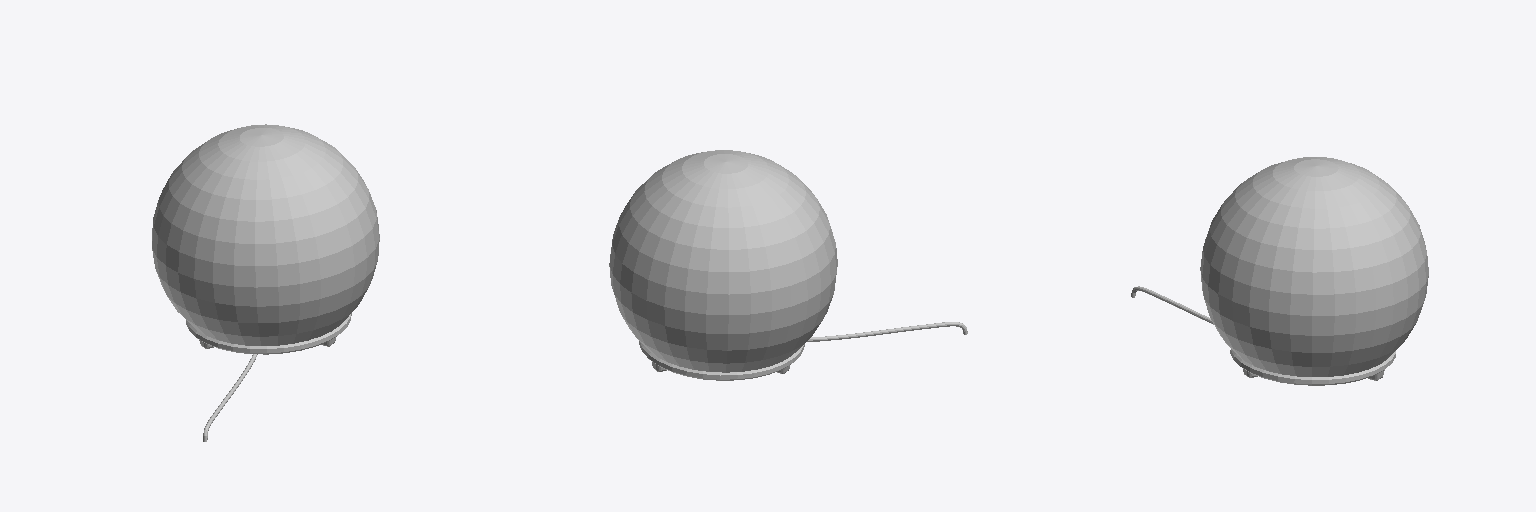
File: tablelamp.obj
The picture shows the model from 3 angles: view 1: azimuth 30°, elevation 25°; view 2: azimuth 150°, elevation 25°; view 3: azimuth 270°, elevation 25°; orthographic projection.
Parts seen in each view (by area): view 1: bowl Mesh, base Mesh; view 2: bowl Mesh, base Mesh; view 3: bowl Mesh, base Mesh.
Boxes of the visible parts, x1=… form: bowl Mesh: x1=152, y1=124, x2=379, y2=345; base Mesh: x1=186, y1=313, x2=351, y2=441; bowl Mesh: x1=609, y1=150, x2=837, y2=372; base Mesh: x1=639, y1=322, x2=967, y2=380; bowl Mesh: x1=1200, y1=157, x2=1428, y2=376; base Mesh: x1=1131, y1=286, x2=1395, y2=385.
Bounding box in the file's own units: 12.52 × 9.64 × 12.82.